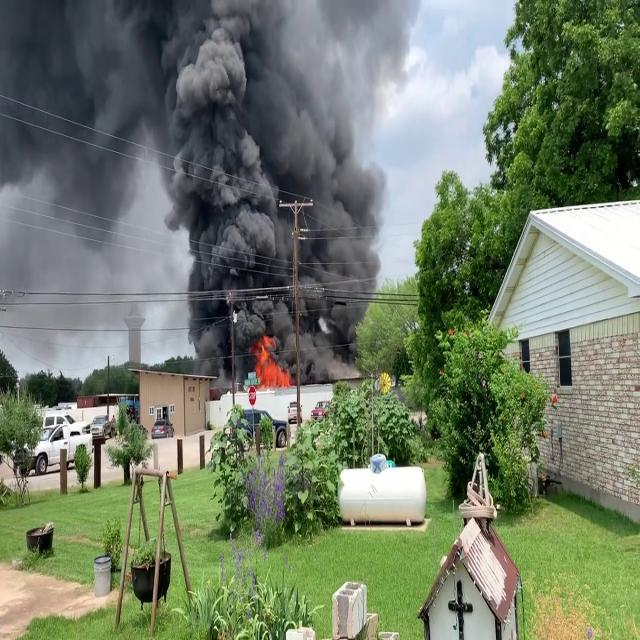Fire: (252, 334, 292, 387)
Smoke: (4, 0, 402, 371)
